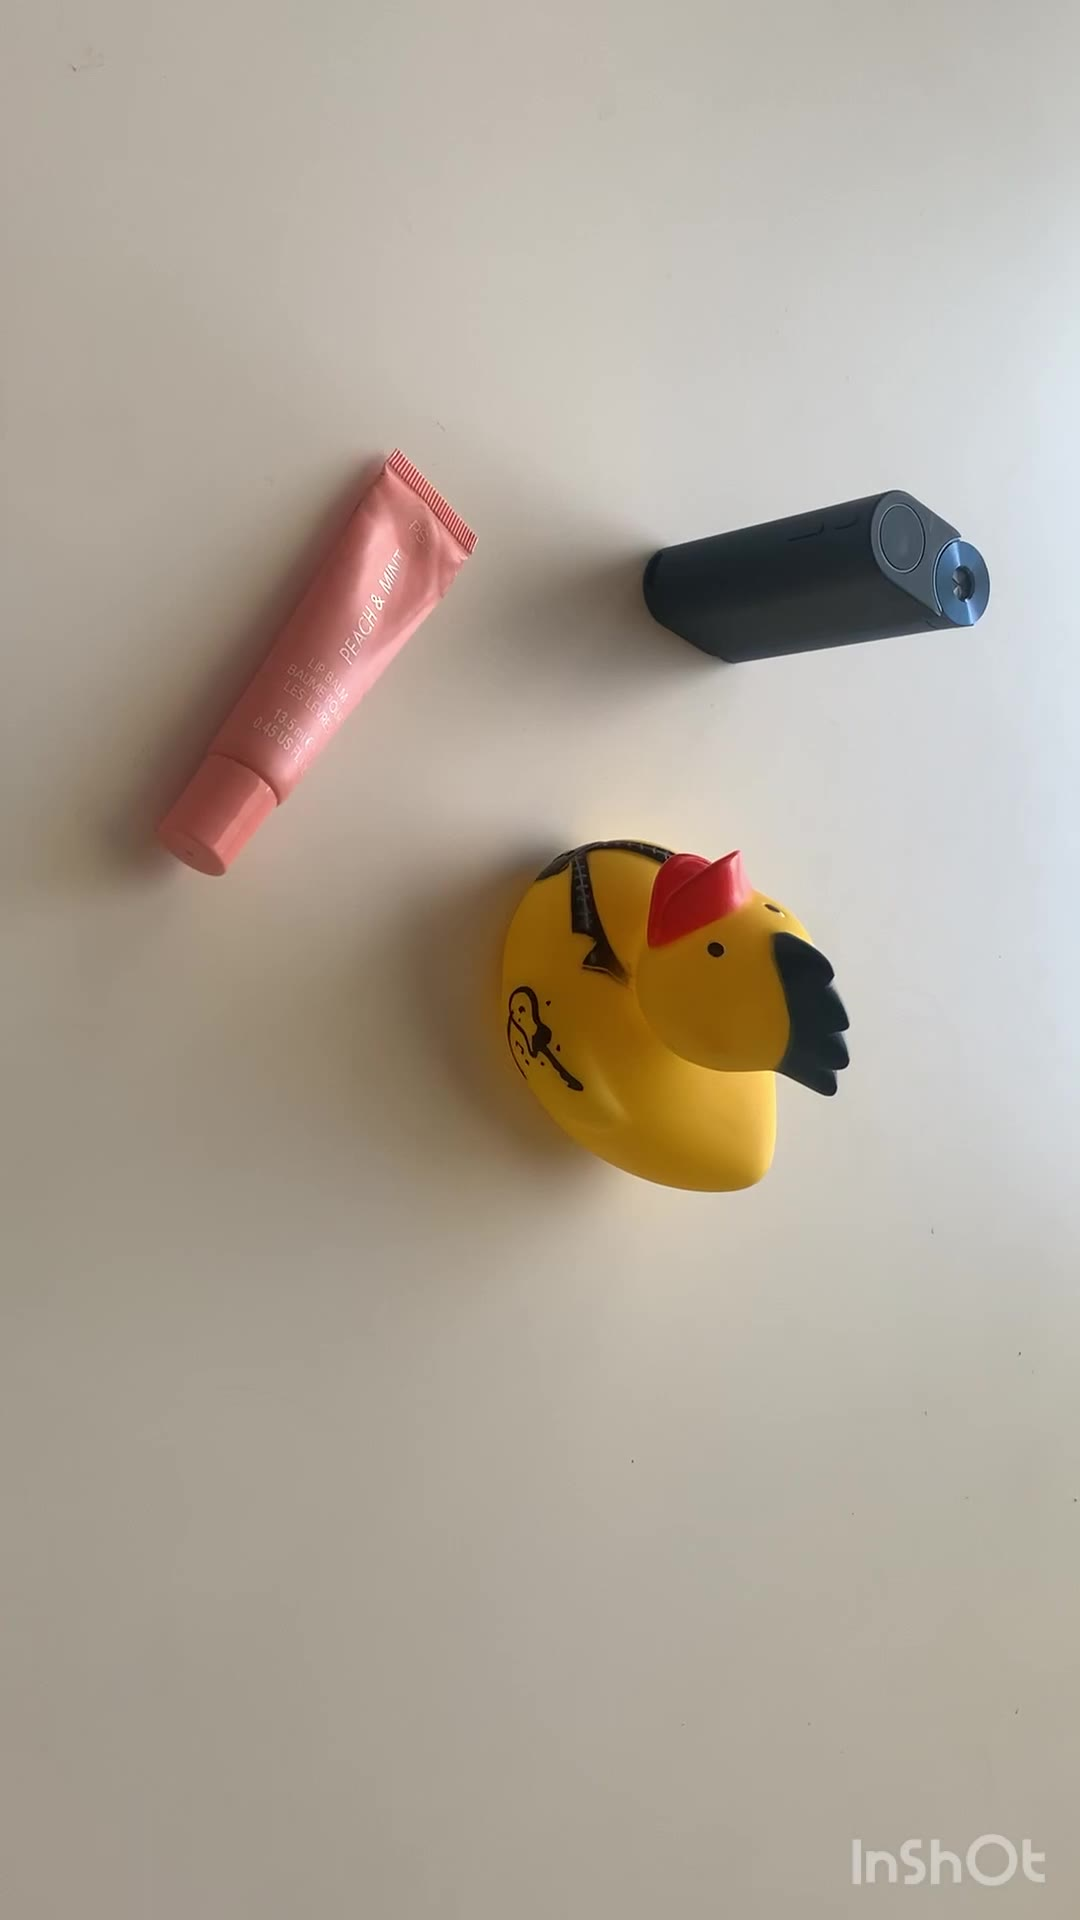duck: (502, 833, 847, 1195)
glo: (641, 485, 1005, 669)
lip balm: (154, 446, 491, 880)
